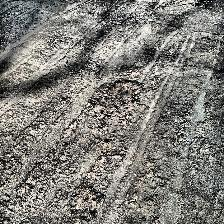pothole: (84, 78, 146, 124), (118, 64, 138, 76)
